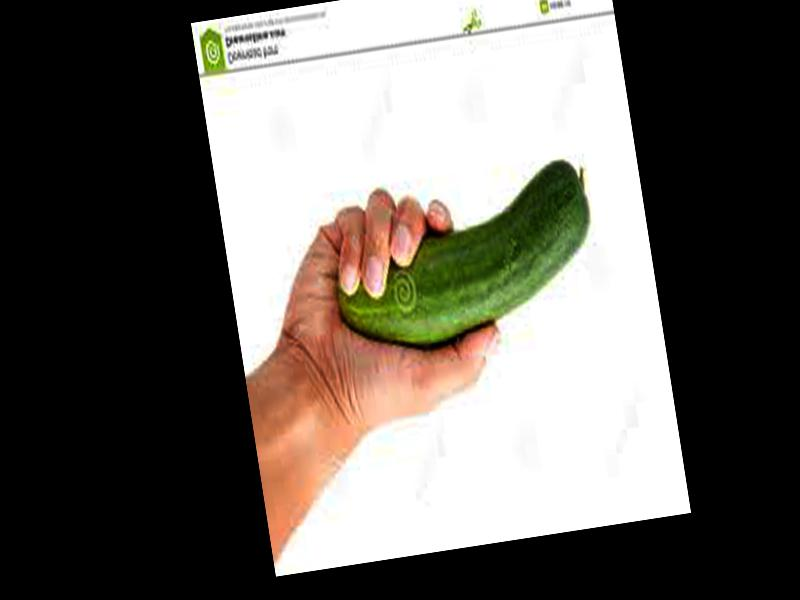Cucumber: (322, 156, 606, 354)
